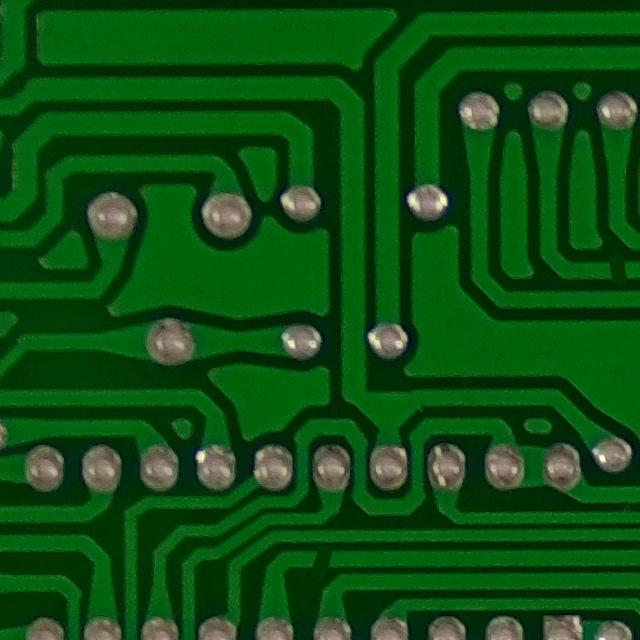open_circuit: (599, 248, 636, 289), (301, 541, 343, 575)
